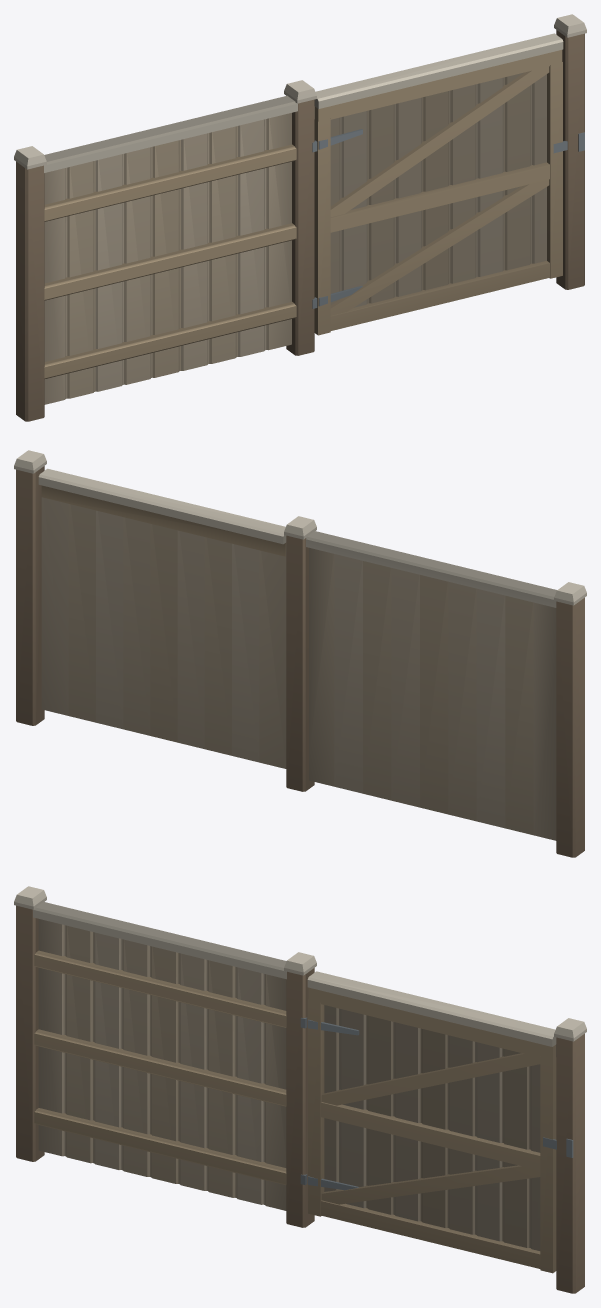
The model's file is fence.glb.
3 views of the same model, one above another, from view 1: azimuth 30°, elevation 25°; view 2: azimuth 150°, elevation 25°; view 3: azimuth 330°, elevation 25° (orthographic).
Parts seen in each view (by area): view 1: fence.001; view 2: fence.001; view 3: fence.001.
Part boxes in pixels (x1,y1,x2,y2): fence.001: [14, 14, 586, 421]; fence.001: [14, 450, 586, 857]; fence.001: [14, 886, 586, 1293].
Bounding box in the file's own units: 4 × 1.8 × 0.164.
